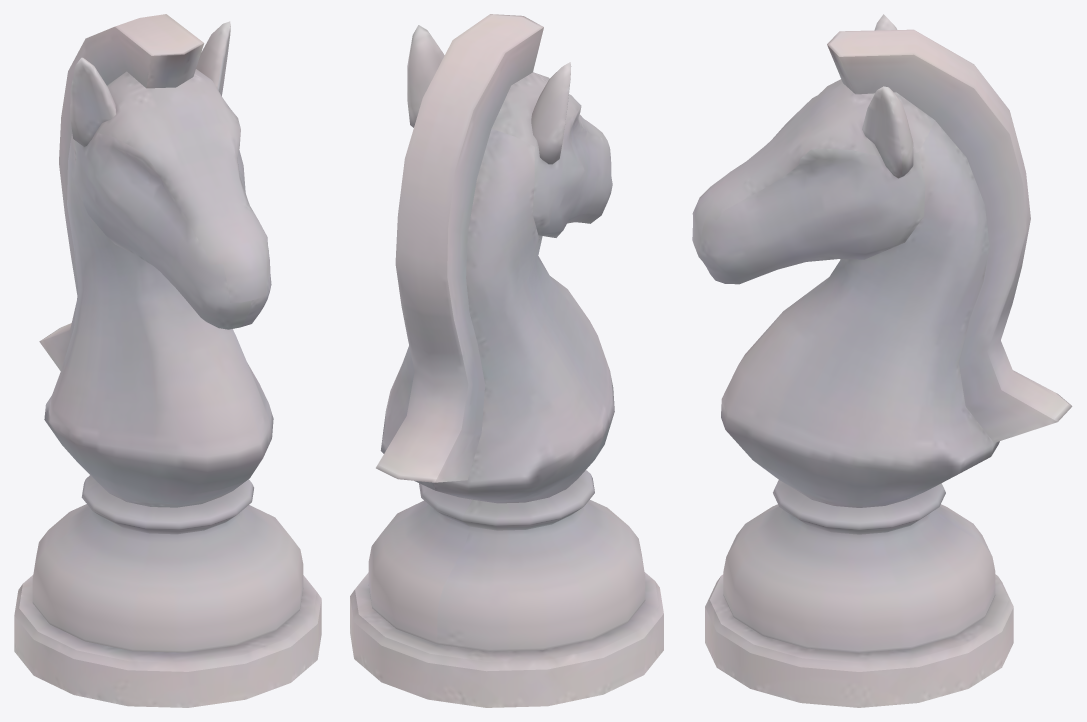
File: knight_white.glb
3 renders of one model, left to right at view 1: azimuth 30°, elevation 25°; view 2: azimuth 150°, elevation 25°; view 3: azimuth 270°, elevation 25°, orthographic. The views are drawn at different scales.
Parts seen in each view (by area): view 1: knight_white; view 2: knight_white; view 3: knight_white.
Part boxes in pixels (x1,y1,x2,y2): knight_white: (14, 14, 321, 707); knight_white: (350, 14, 663, 707); knight_white: (692, 14, 1072, 707).
Bounding box in the file's own units: 1.28 × 2.76 × 1.58.
1 material, 1 textured.
